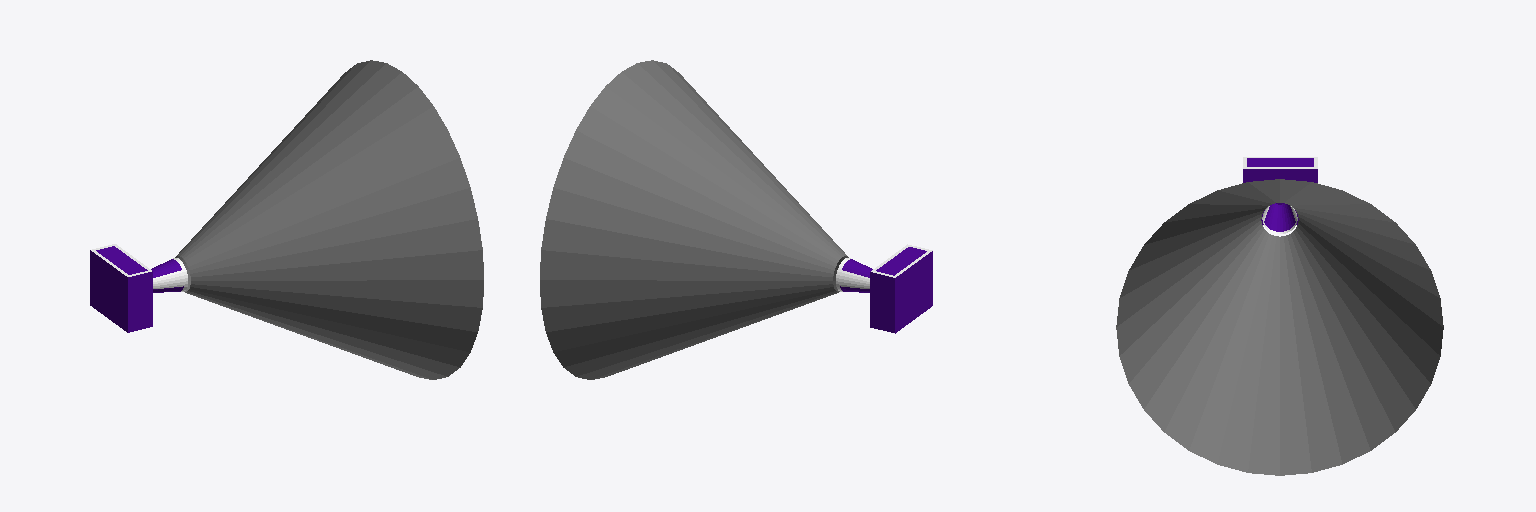
File: SteveFinal.obj
3 renders of one model, left to right at view 1: azimuth 30°, elevation 25°; view 2: azimuth 150°, elevation 25°; view 3: azimuth 270°, elevation 25°, orthographic.
Visible parts, largest first — view 1: Steve; view 2: Steve; view 3: Steve.
Boxes of the visible parts, <box> form: Steve: <box>90,60,483,379</box>; Steve: <box>540,60,932,379</box>; Steve: <box>1116,157,1443,475</box>.
Bounding box in the file's own units: 3.08 × 2.98 × 2.98.